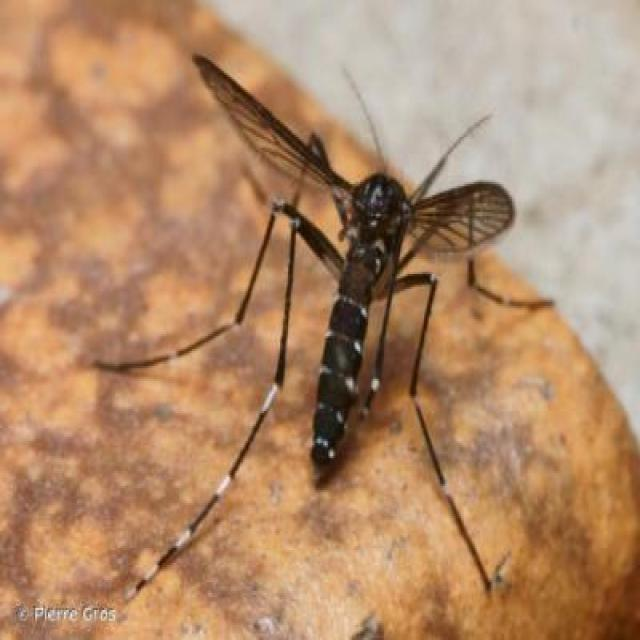antennae: (336, 58, 496, 201)
body: (304, 174, 414, 474)
insect: (90, 48, 557, 605)
legs: (94, 200, 343, 593), (381, 257, 553, 613)
wings: (193, 48, 358, 215), (404, 178, 518, 276)
